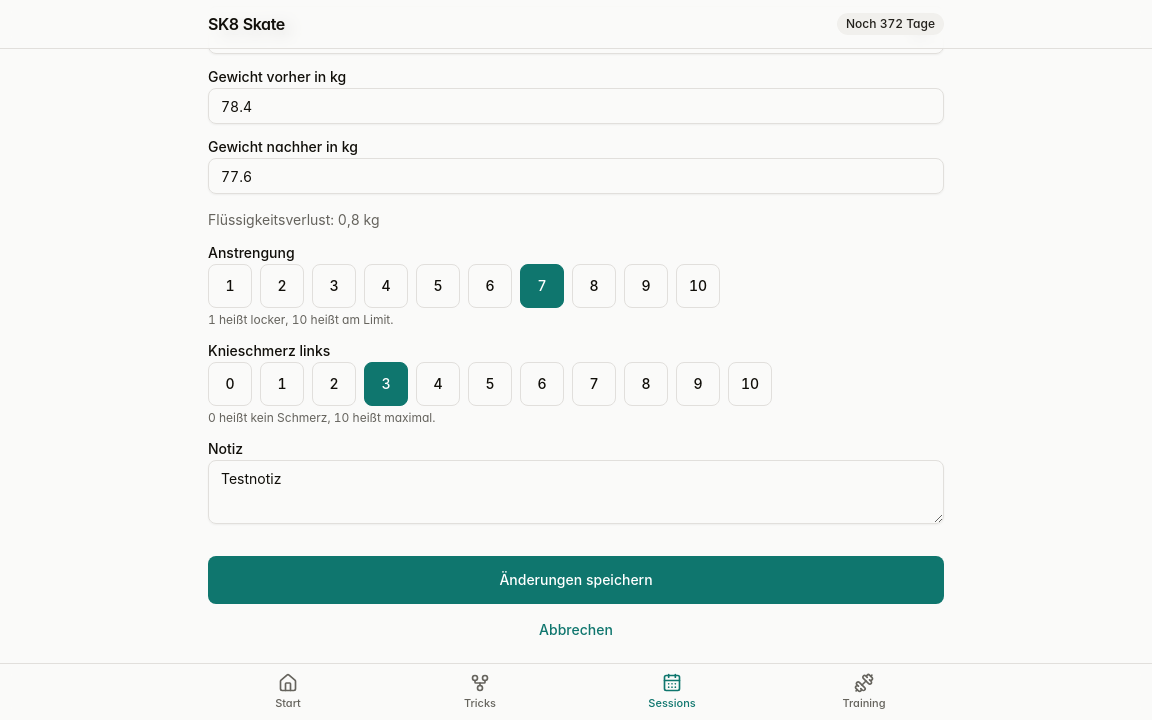
Scenario: SessionEditScreen › Kriterium 16: a 422 on 'durationMinutes' shows the server message under that field, staying on the form
(page scrolled)
Click the button "Änderungen speichern": click(576, 580) top-left (208, 556), bottom-right (944, 604)
(page scrolled)
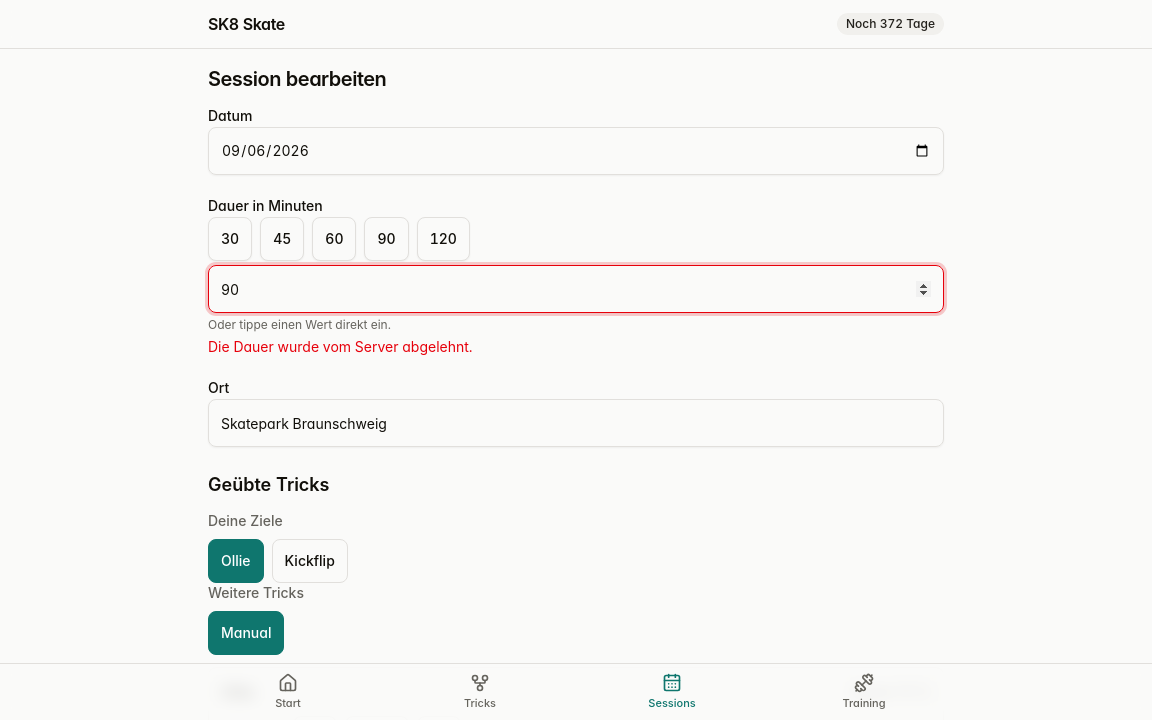
Expected: the date field labelled "Datum" is shown, top-left (208, 127), bottom-right (944, 175)
Expected: the text "Die Dauer wurde vom Server abgelehnt." is shown, top-left (208, 338), bottom-right (473, 355)
